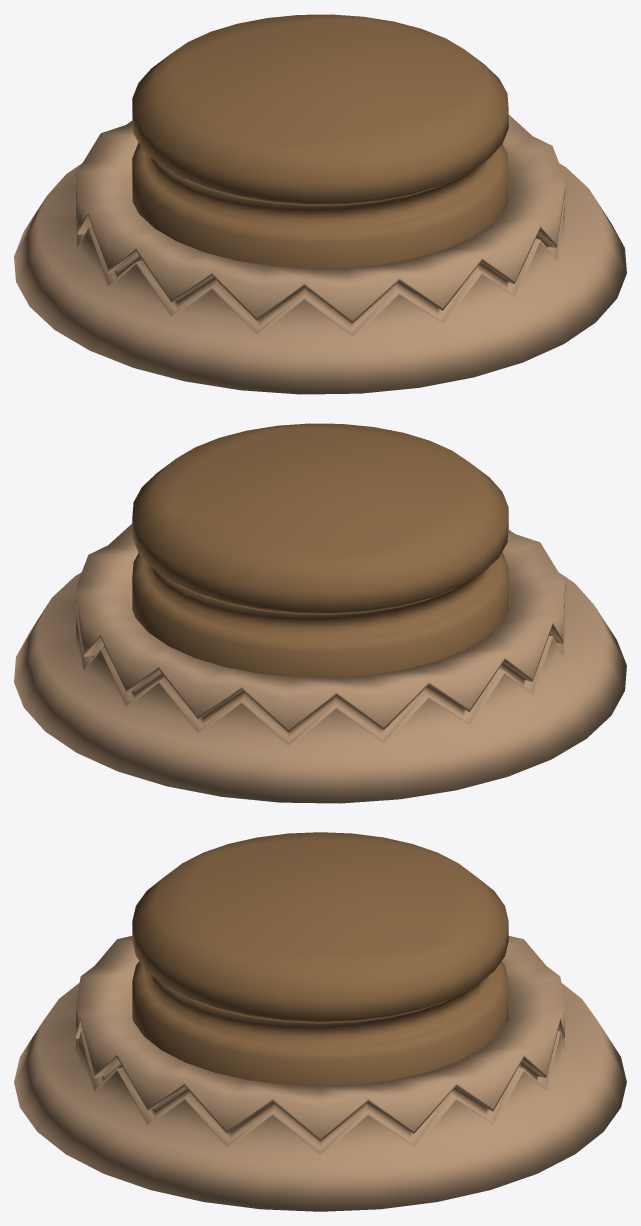
File: Button.fbx
The picture shows the model from 3 angles, top to bottom: view 1: azimuth 30°, elevation 25°; view 2: azimuth 150°, elevation 25°; view 3: azimuth 270°, elevation 25°; orthographic projection.
Parts seen in each view (by area): view 1: ButtonBase, Button; view 2: ButtonBase, Button; view 3: ButtonBase, Button.
Boxes of the visible parts, x1,y1,x2,y2 form: ButtonBase: (14,115,626,394); Button: (132,14,508,268); ButtonBase: (14,524,626,803); Button: (132,423,508,677); ButtonBase: (14,936,626,1211); Button: (132,832,508,1086).
Bounding box in the file's own units: 200 × 200 × 71.98.
